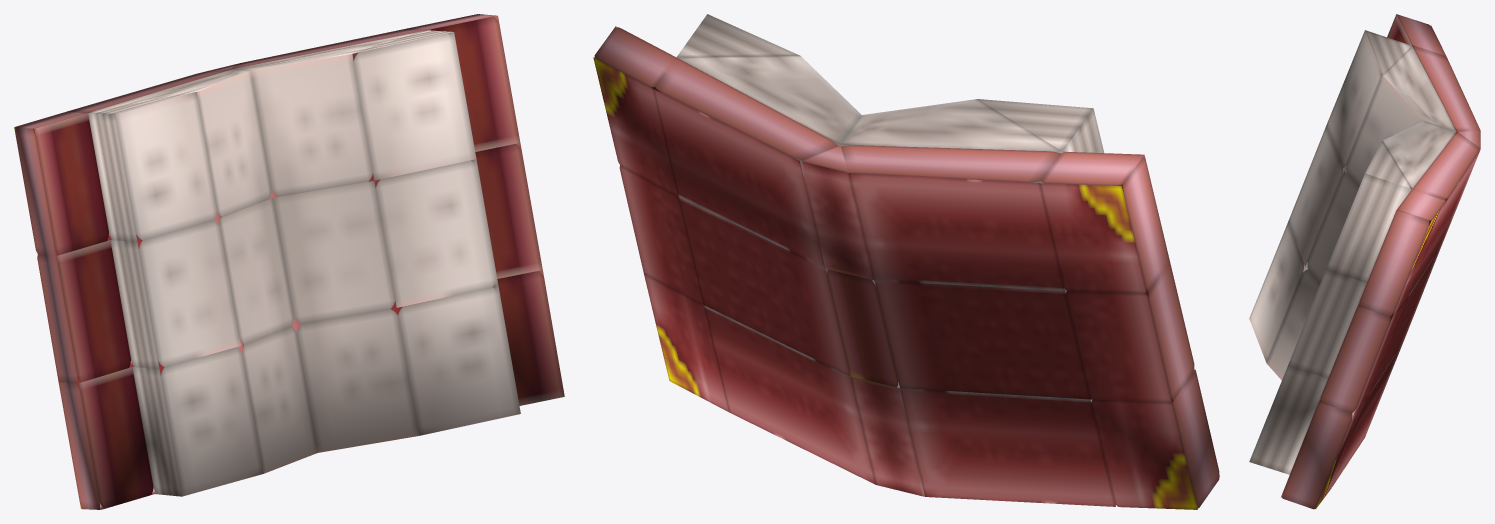
The picture shows the model from 3 angles, left to right: view 1: azimuth 30°, elevation 25°; view 2: azimuth 150°, elevation 25°; view 3: azimuth 270°, elevation 25°; orthographic projection. The views are drawn at different scales.
Parts seen in each view (by area): view 1: T1L4M008_20; view 2: T1L4M008_20; view 3: T1L4M008_20.
Part boxes in pixels (bbox=[...]): T1L4M008_20: bbox=[14, 14, 564, 509]; T1L4M008_20: bbox=[593, 14, 1219, 509]; T1L4M008_20: bbox=[1249, 14, 1480, 509].
Size of the model in its own units: 0.5479 by 0.4258 by 0.2734.
